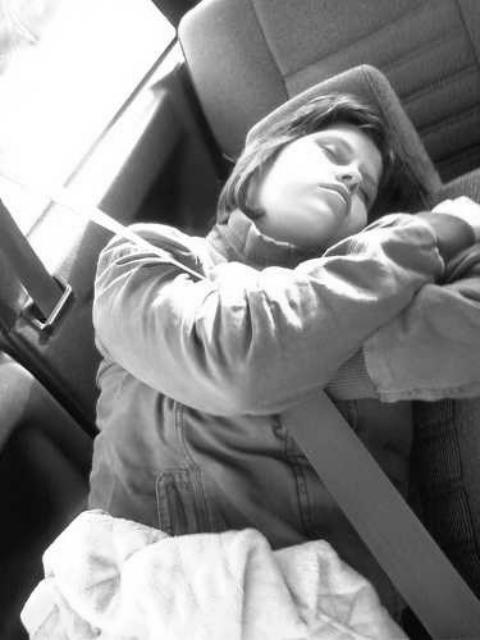Seatbelt: (90, 202, 480, 640)
